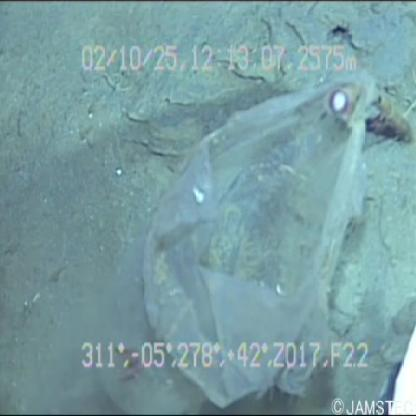Rác: (122, 63, 374, 404)
